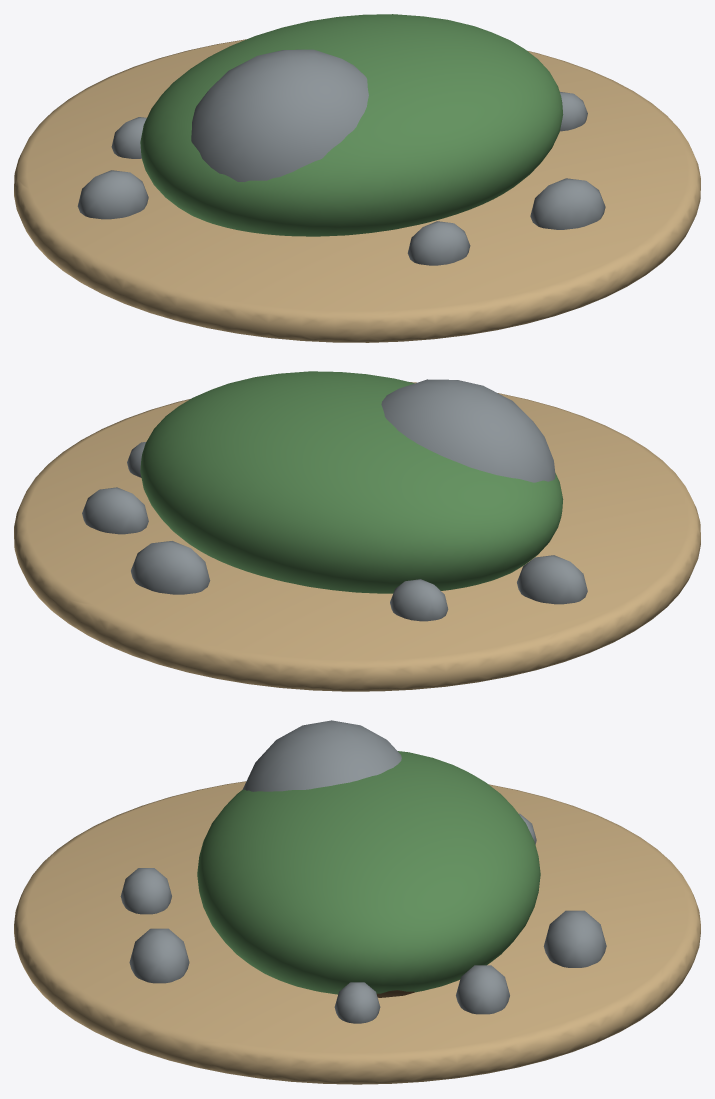
Rendered from island.glb.
3 renders of one model, top to bottom at view 1: azimuth 30°, elevation 25°; view 2: azimuth 150°, elevation 25°; view 3: azimuth 270°, elevation 25°, orthographic.
Parts seen in each view (by area): view 1: ASSET_island; view 2: ASSET_island; view 3: ASSET_island.
Boxes of the visible parts, x1,y1,x2,y2 form: ASSET_island: [14, 14, 700, 342]; ASSET_island: [14, 371, 700, 691]; ASSET_island: [14, 720, 700, 1084].
Size of the model in its own units: 24 by 7.2 by 24.
